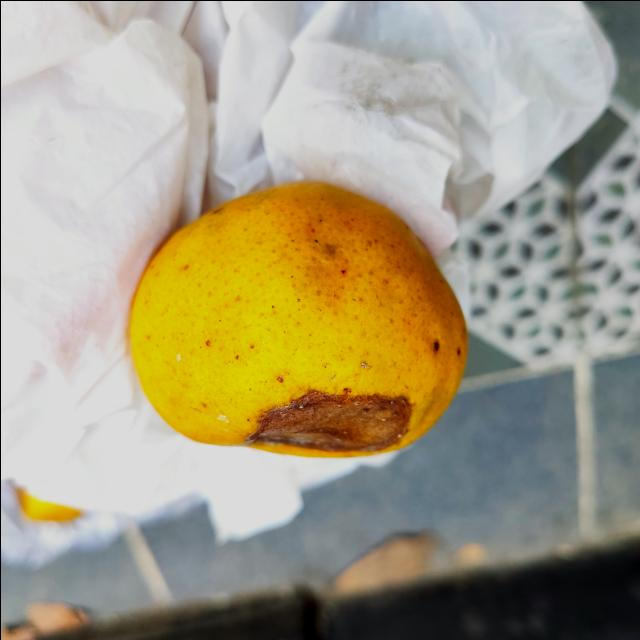orange: (124, 178, 468, 458)
